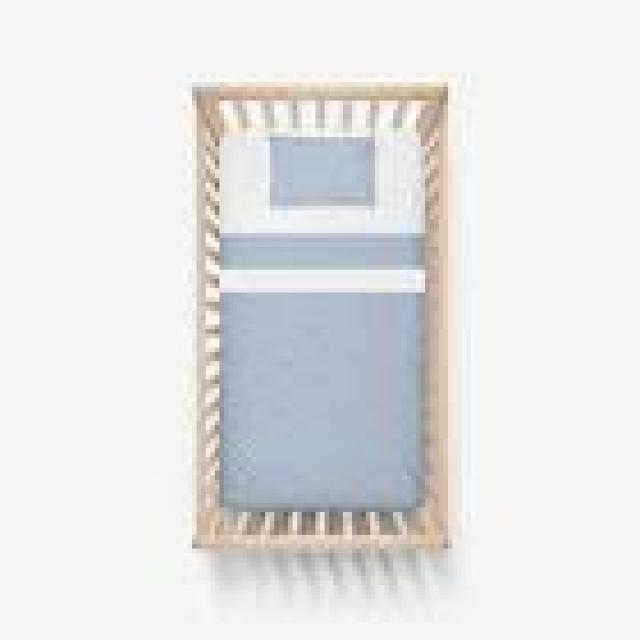crib: (187, 73, 462, 553)
